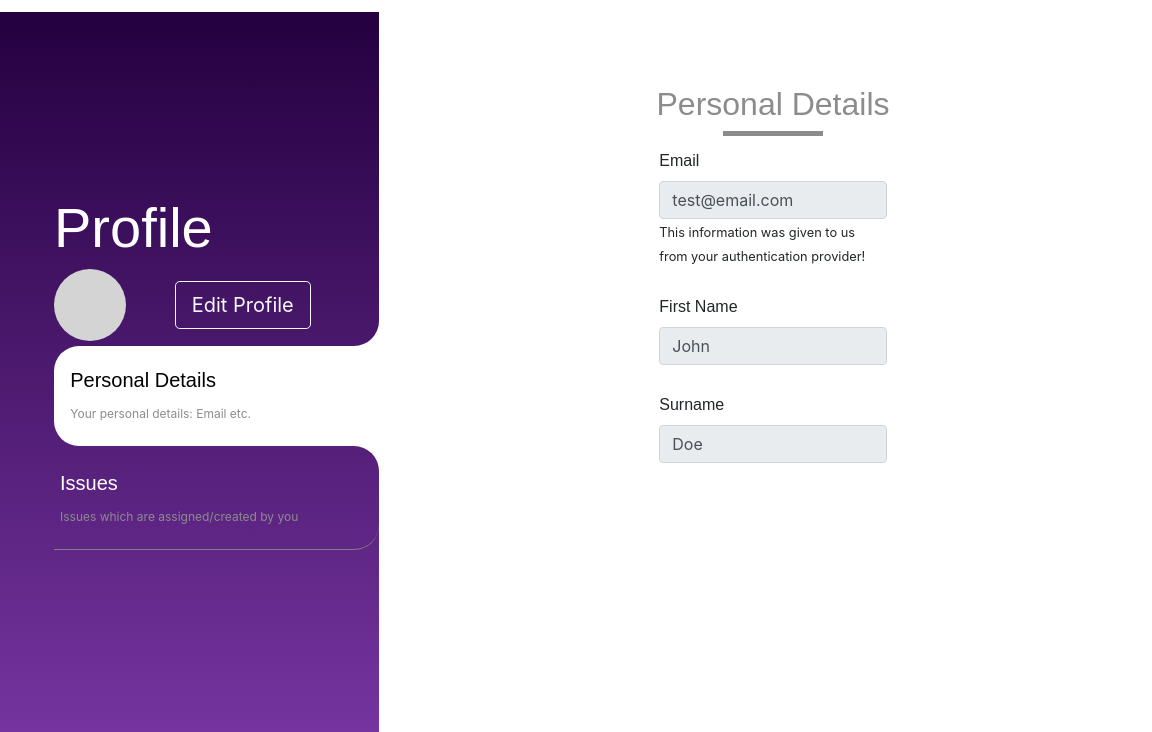
Test: User interaction tests › When user clicks Issues button it displays the Issue view
The width and height of the screenshot is (1152, 732).
Click the heading "Issues". click: (89, 483)
box: [60, 472, 118, 494]
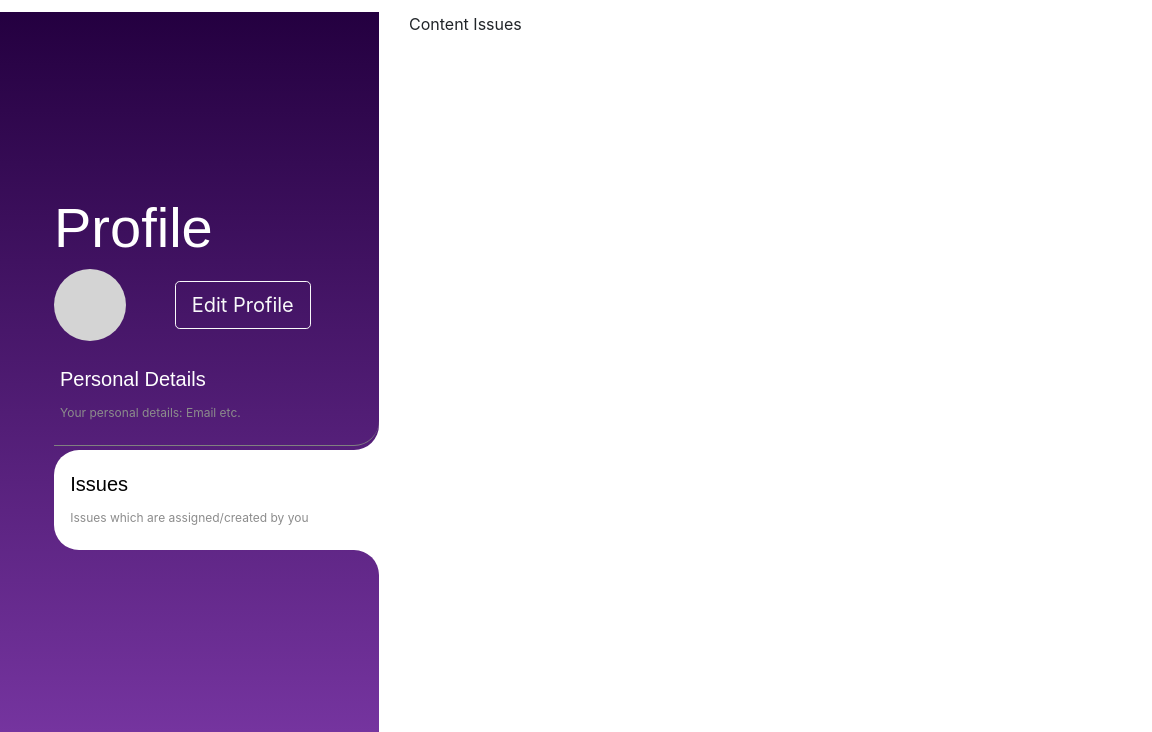
Result: the text "Content Issues" is shown at [409, 14, 522, 34]
